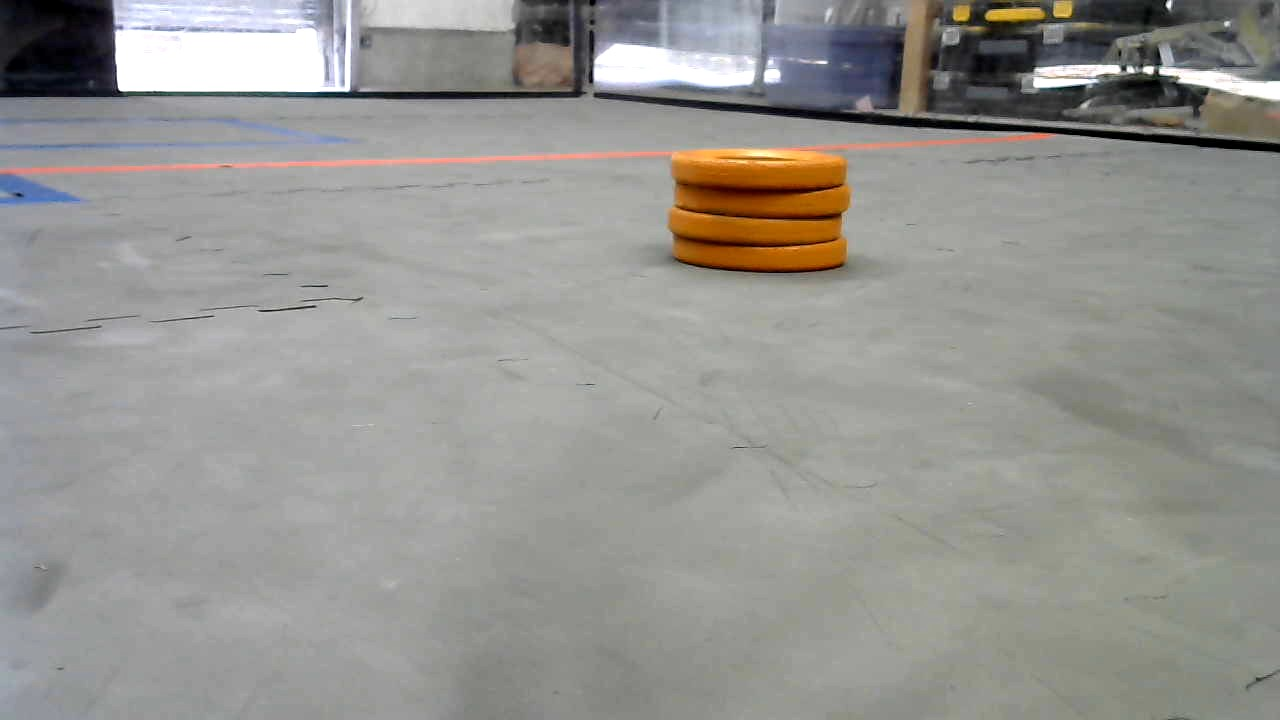FourStack: (668, 148, 851, 273)
